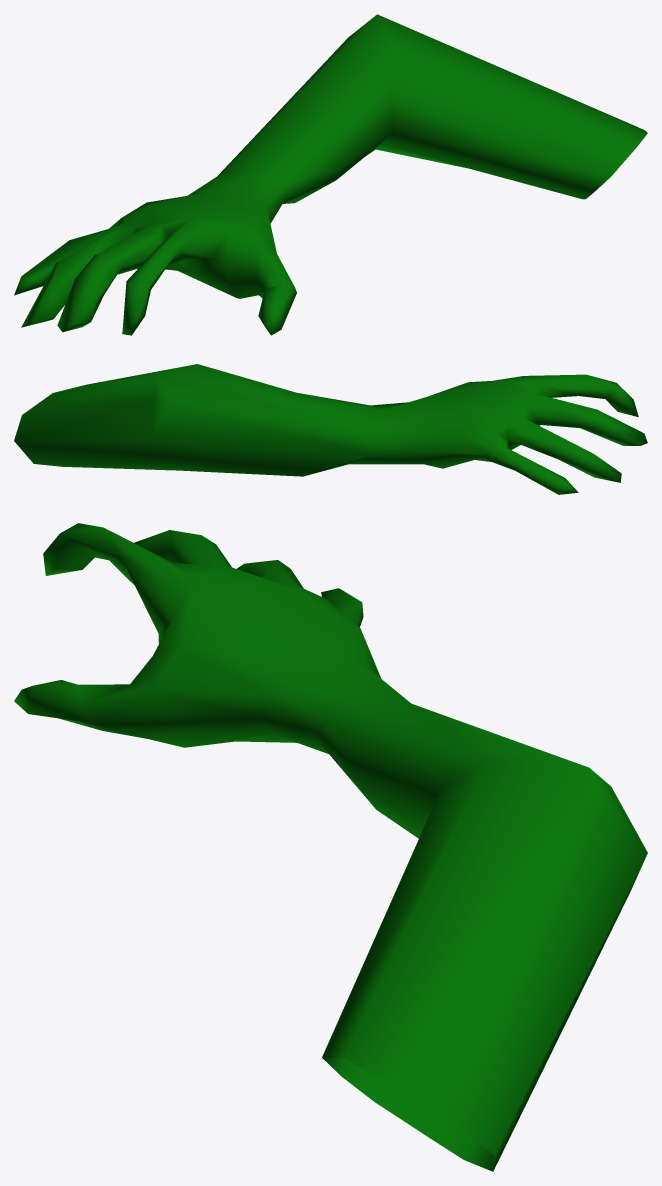
File: HWN20_ZombieHand_01.glb
3 views of the same model, one above another, from view 1: azimuth 30°, elevation 25°; view 2: azimuth 150°, elevation 25°; view 3: azimuth 270°, elevation 25° (orthographic). The views are drawn at different scales.
Visible parts, largest first — view 1: HWN20_ZombieHand_01; view 2: HWN20_ZombieHand_01; view 3: HWN20_ZombieHand_01.
Boxes of the visible parts, box(x1,y1,x2,y2) form: HWN20_ZombieHand_01: box(14, 14, 647, 335); HWN20_ZombieHand_01: box(14, 364, 647, 494); HWN20_ZombieHand_01: box(14, 523, 647, 1171).
Size of what is drawn, in the model's own units: 0.8195 by 0.2105 by 0.4422.
1 material, 1 textured.
